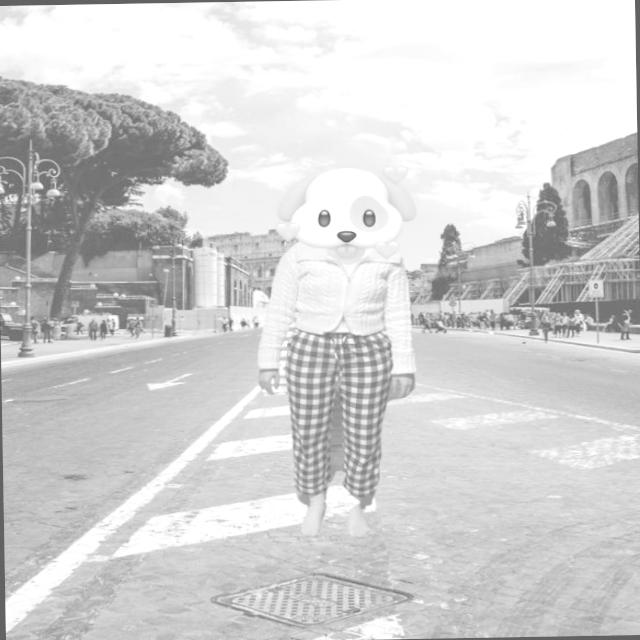cardigan: (257, 240, 417, 378)
trainingpants: (282, 324, 389, 506)
